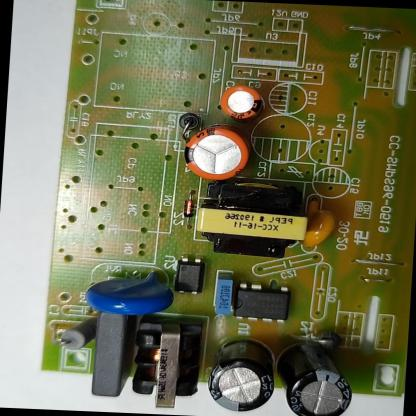Cap1: (182, 124, 250, 183)
Cap2: (217, 82, 264, 121)
Cap3: (205, 335, 278, 414)
Cap4: (272, 343, 354, 416)
MOSFET: (230, 282, 295, 324)
Mov: (83, 264, 174, 317)
Resestor: (56, 316, 96, 352)
Transformer: (191, 180, 311, 257), (127, 314, 203, 409)
